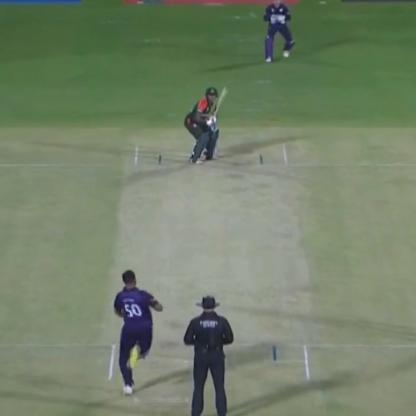bat: (207, 82, 231, 128)
pitch: (104, 141, 320, 394)
